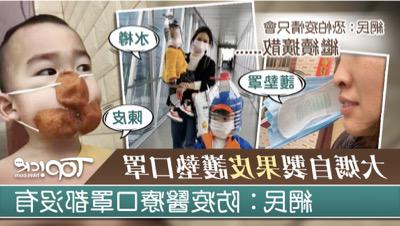with_mask: (14, 46, 101, 141), (208, 111, 238, 137), (192, 35, 209, 54), (165, 29, 182, 48)
without_mask: (332, 52, 386, 137)
